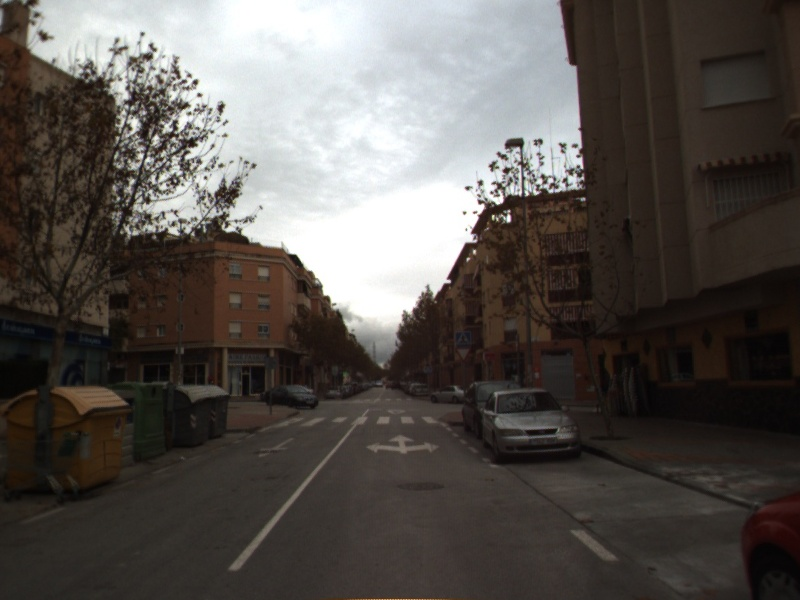STRAIGHT_LEFT_RIGHT: (364, 432, 442, 456)
